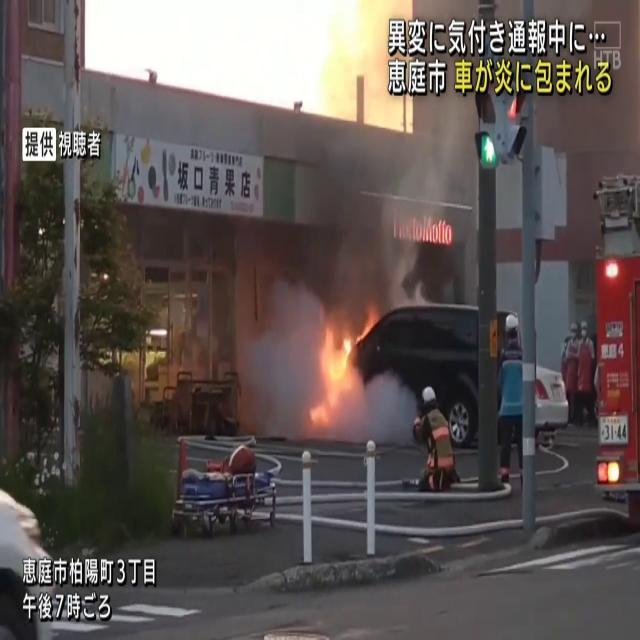Fire: (306, 316, 366, 426)
Smoke: (323, 106, 473, 316), (238, 276, 332, 438)
